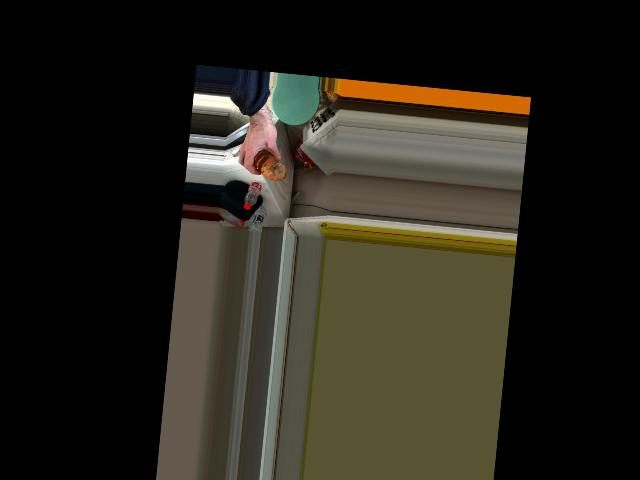sweet_potato: (254, 149, 287, 183)
